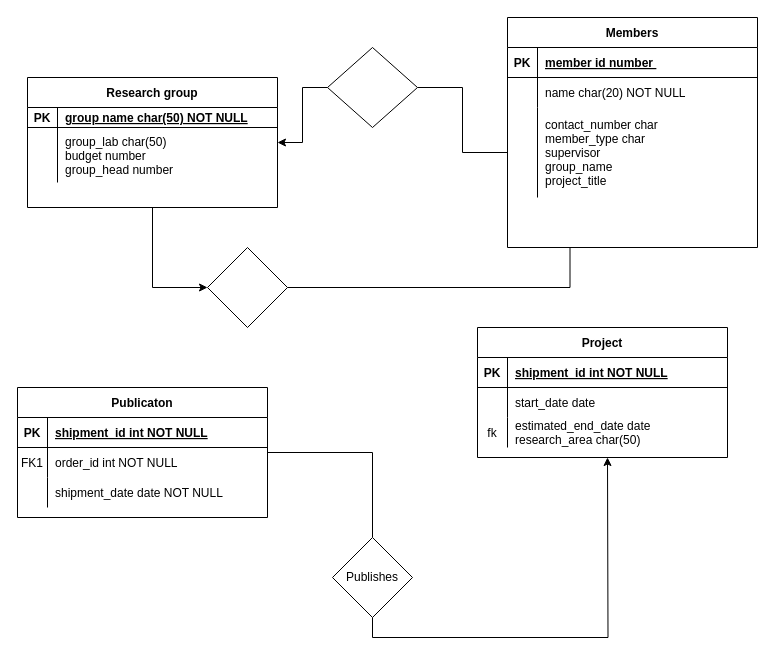
Image size: 775x663. Some labels were removed from this diagram. Each missing label, with the centre of its shape:
Group: point 247,287
Head: point 372,87
